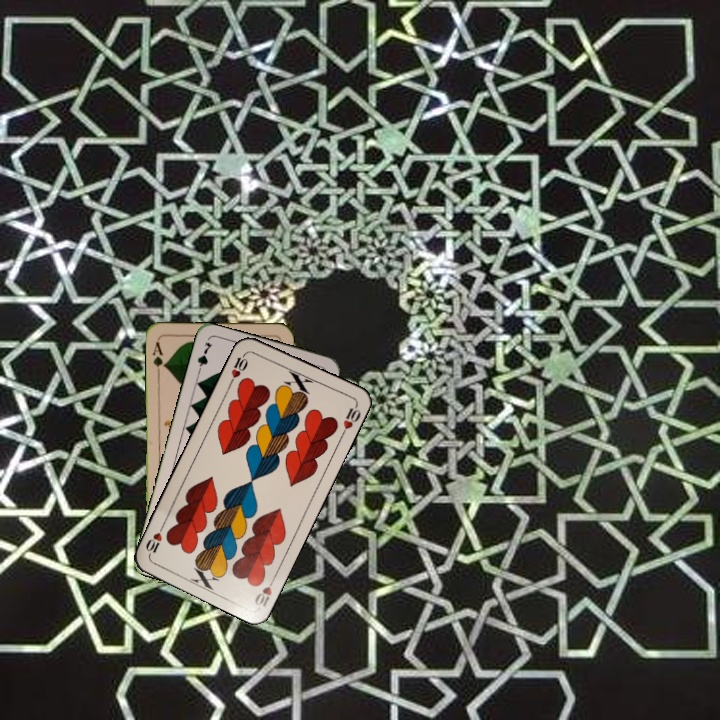G7: (193, 338, 215, 377)
GA: (149, 338, 168, 377)
H10: (251, 572, 278, 610), (225, 348, 251, 387)
